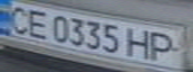0: (45, 12, 72, 44)
3: (81, 19, 106, 52), (66, 16, 87, 47)
5: (100, 21, 127, 56)
C: (0, 2, 33, 35)
E: (21, 7, 54, 39)
H: (124, 26, 157, 60)
P: (145, 29, 184, 63)
